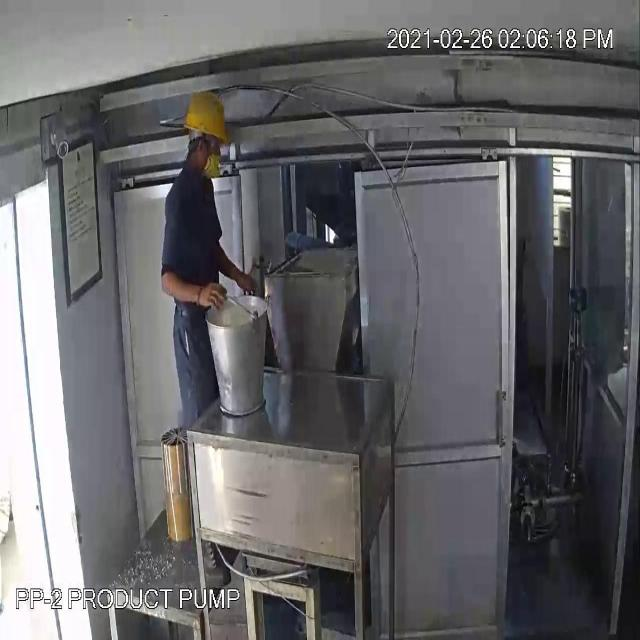hat: (180, 85, 230, 146)
